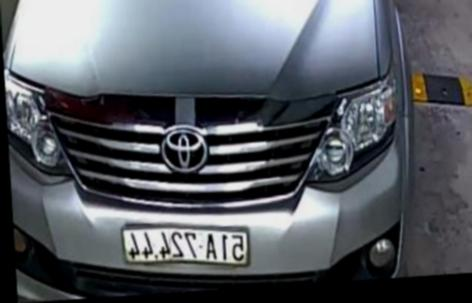License_Plate: (115, 213, 254, 278)
